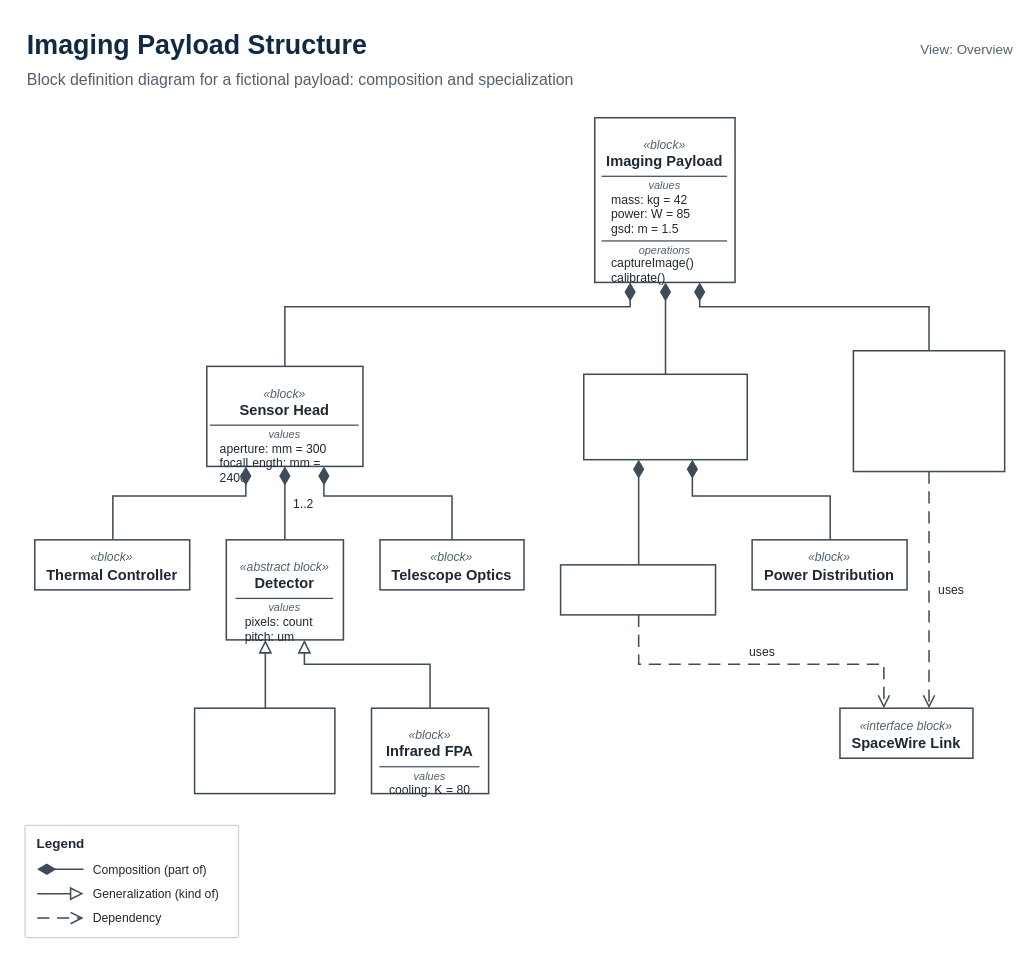
The diagram is 1036 pixels wide and 959 high, and some of its shapes have lost their labels. Each missing label, with the centre of its shape:
«block» Image Processor values throughput: MB/s = 400 operations compress(): point 928,410
«block» Payload Controller: point 637,589
«block» Payload Electronics values power: W = 30: point 664,416
«block» Visible FPA values pixels: count = 12000: point 264,750
